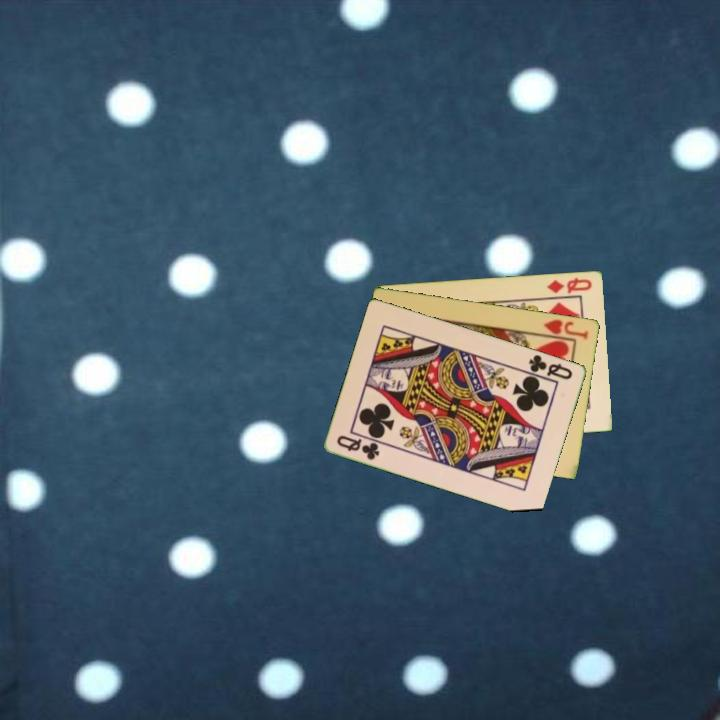Jh: (540, 316, 591, 342)
Qc: (522, 351, 576, 384), (333, 431, 383, 463)
Qd: (544, 274, 595, 296)
